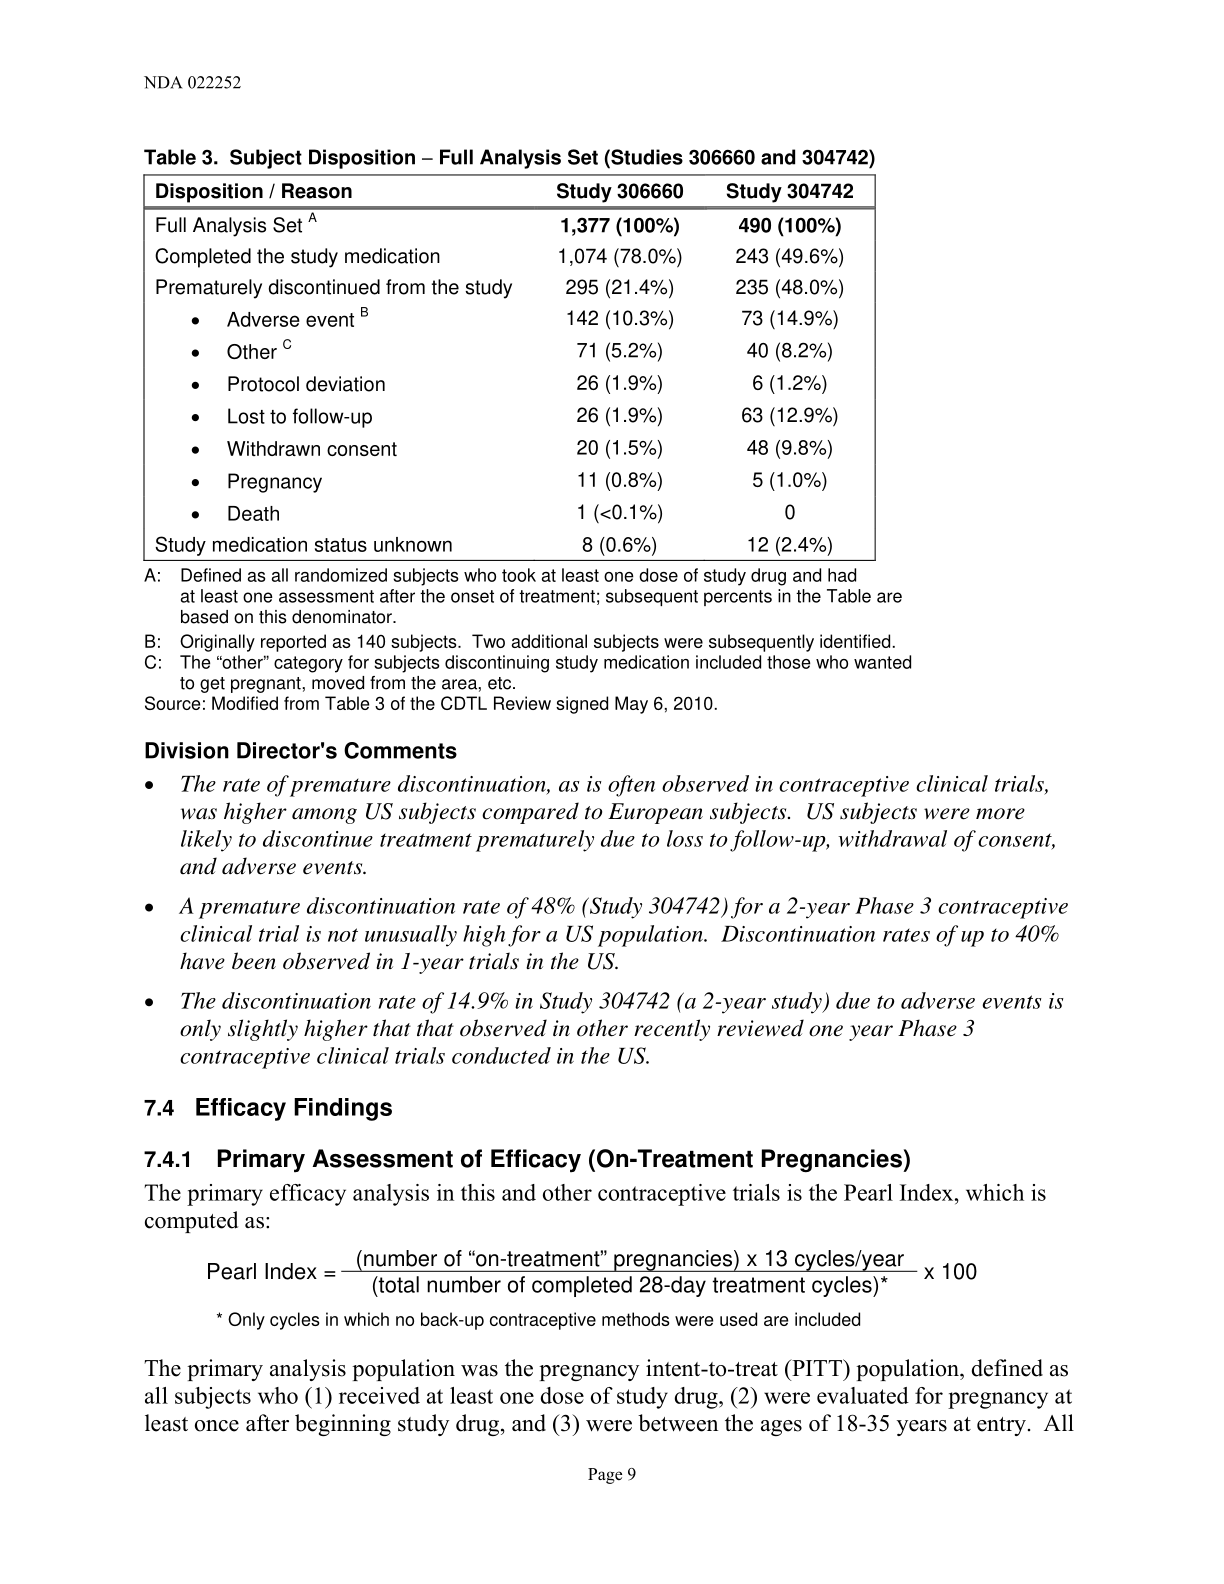partial_lined: (141, 174, 877, 562)
